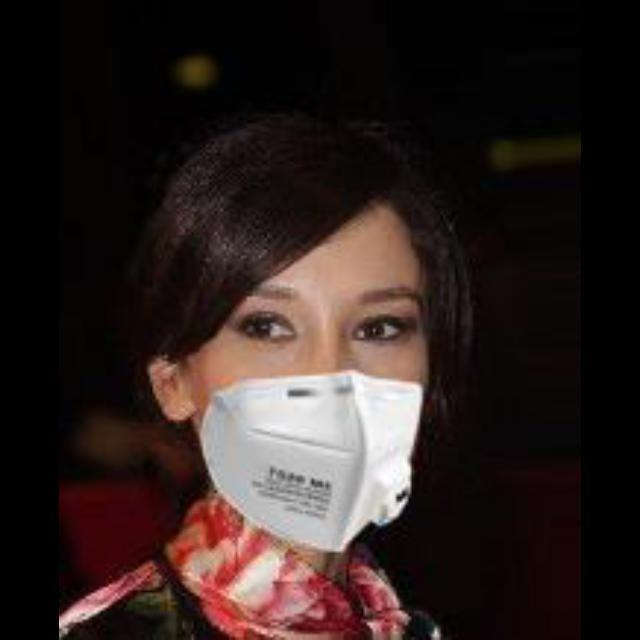suspicion: (186, 172, 459, 560)
